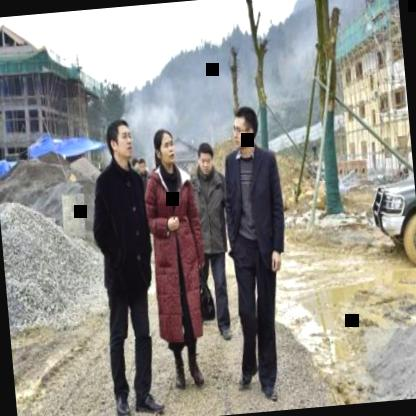head: (104, 115, 138, 168), (230, 102, 262, 154), (151, 124, 179, 172), (194, 139, 218, 180)
